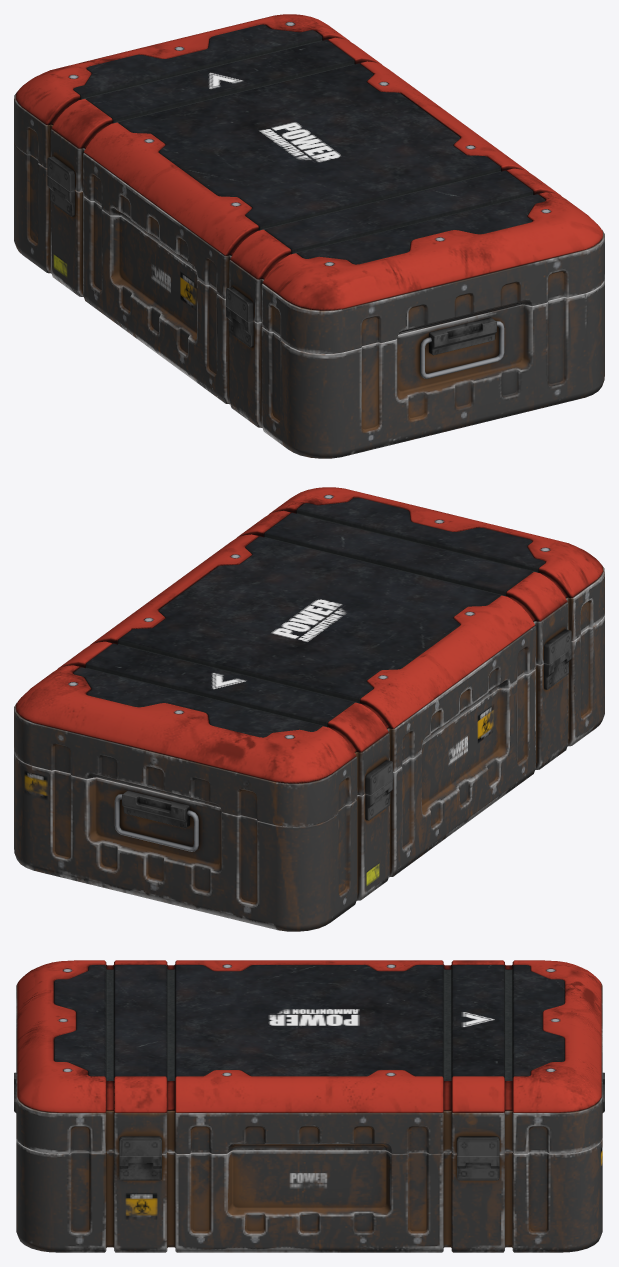
The model's file is SM_AmmunitionBoxes03_Closed.fbx.
3 views of the same model, one above another, from view 1: azimuth 30°, elevation 25°; view 2: azimuth 150°, elevation 25°; view 3: azimuth 270°, elevation 25° (orthographic). The views are drawn at different scales.
Visible parts, largest first — view 1: SM_AmmunitionBoxes03_Closed_LOD0; view 2: SM_AmmunitionBoxes03_Closed_LOD0; view 3: SM_AmmunitionBoxes03_Closed_LOD0.
Part boxes in pixels (x1=…): SM_AmmunitionBoxes03_Closed_LOD0: x1=14, y1=14, x2=604, y2=458; SM_AmmunitionBoxes03_Closed_LOD0: x1=14, y1=487, x2=604, y2=931; SM_AmmunitionBoxes03_Closed_LOD0: x1=14, y1=960, x2=604, y2=1252.
Bounding box in the file's own units: 56.61 × 94.71 × 28.91.
1 material, 1 textured.
